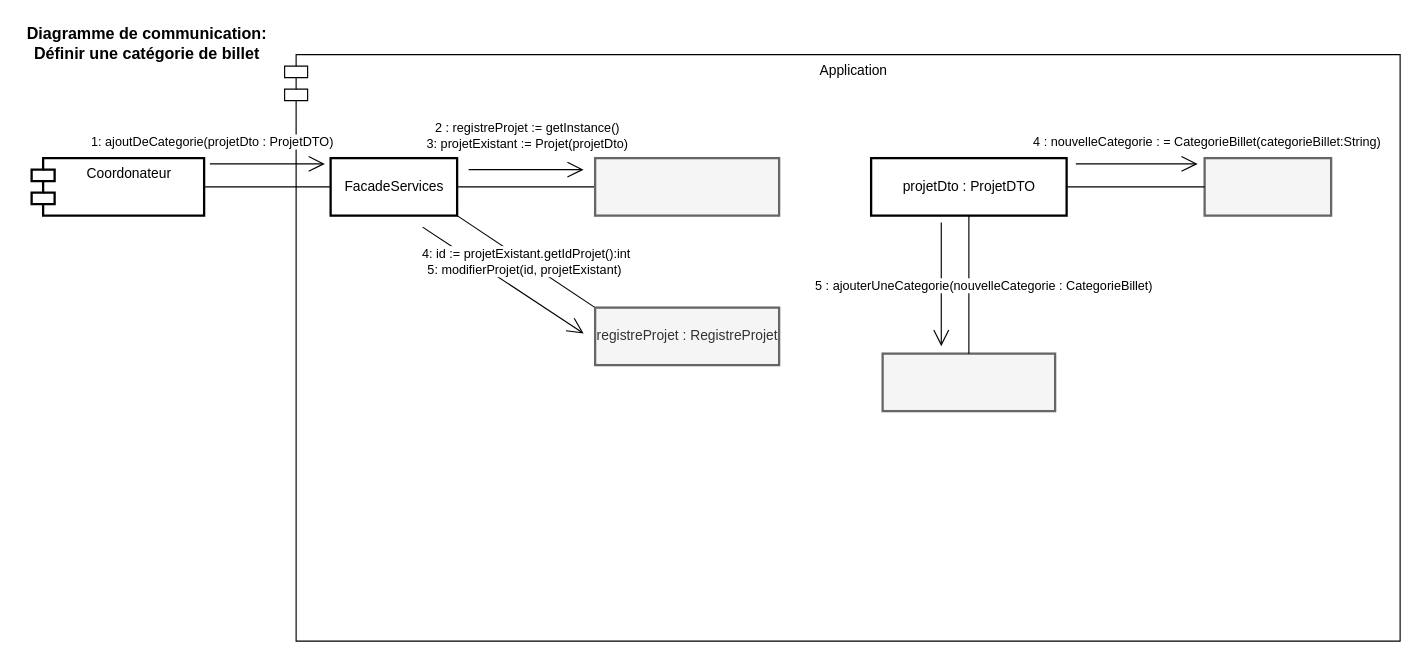
The diagram is 1420 pixels wide and 661 high, and some of its shapes have lost their labels. The centre of each missing label's shape, as x and y in pixels:
CategorieBillet: the point at 1267,186
projetExistant : Projet: the point at 686,186
registreCategorie : ArrayList<CategorieBillet>: the point at 968,382
